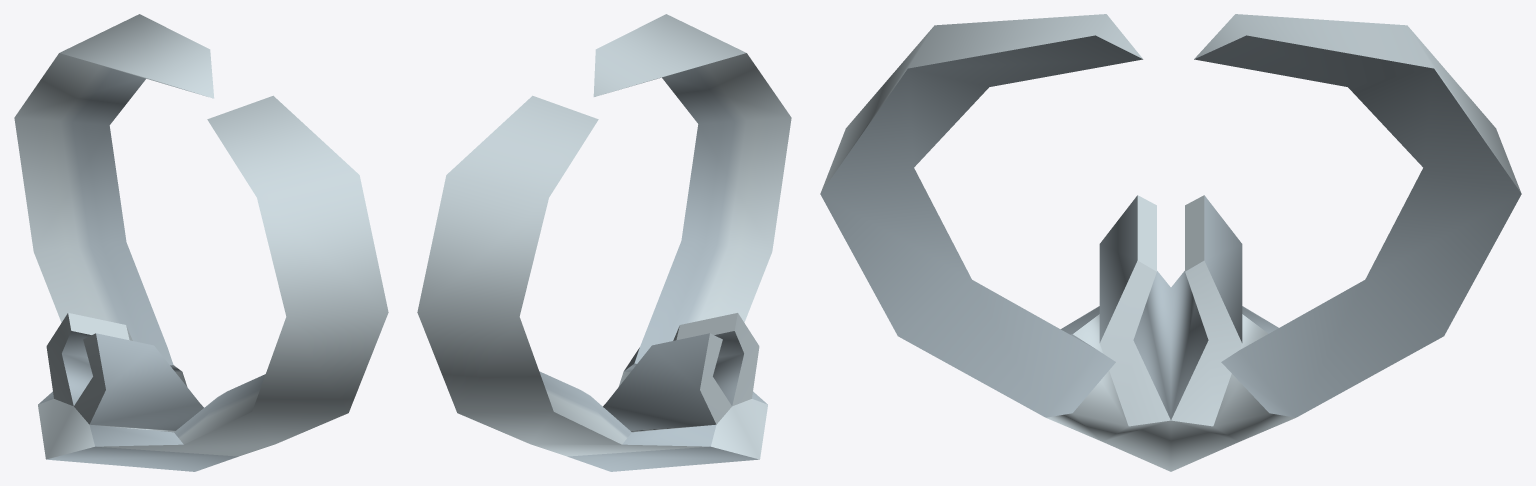
File: Bone_3_color_1.FBX
3 renders of one model, left to right at view 1: azimuth 30°, elevation 25°; view 2: azimuth 150°, elevation 25°; view 3: azimuth 270°, elevation 25°, orthographic. The views are drawn at different scales.
Visible parts, largest first — view 1: Bone; view 2: Bone; view 3: Bone.
Part boxes in pixels (x1,y1,x2,y2): Bone: (14, 14, 388, 471); Bone: (417, 14, 791, 471); Bone: (820, 14, 1521, 471).
Bounding box in the file's own units: 0.2484 × 0.4521 × 0.6196.
